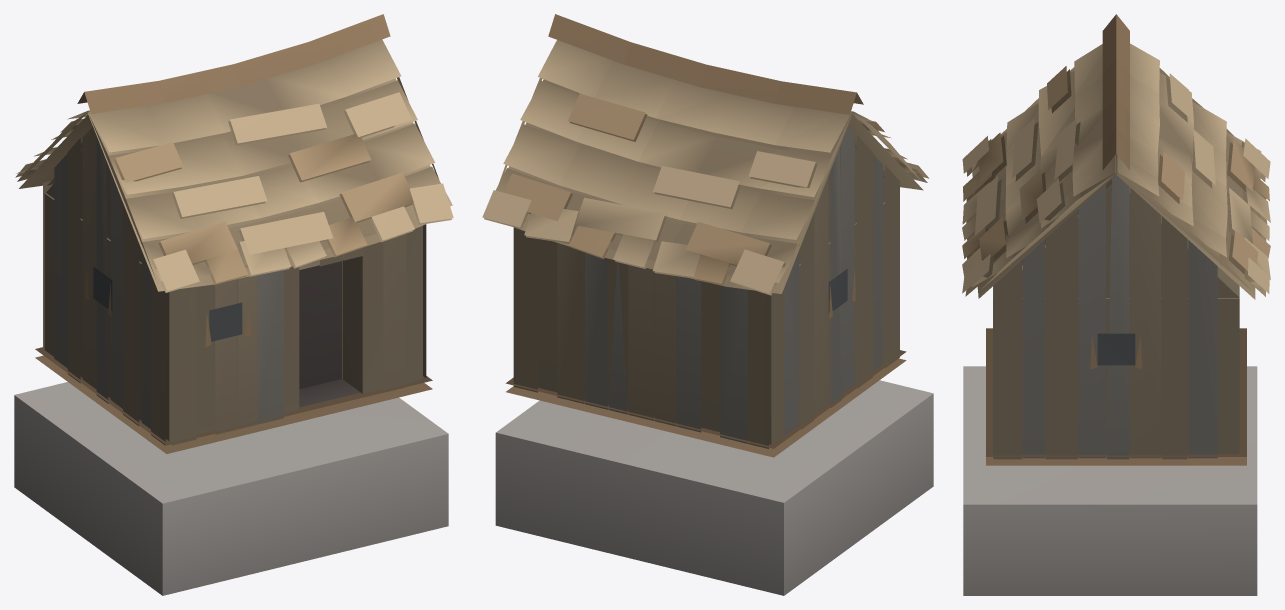
File: shack.lod.glb
3 views of the same model, side by side, from view 1: azimuth 30°, elevation 25°; view 2: azimuth 150°, elevation 25°; view 3: azimuth 270°, elevation 25° (orthographic).
Parts seen in each view (by area): view 1: shack; view 2: shack; view 3: shack.
Part boxes in pixels (x1,y1,x2,y2): shack: (14,14,453,595); shack: (482,14,933,595); shack: (962,14,1270,595).
Size of the model in its own units: 5.19 by 7.5 by 4.69.
